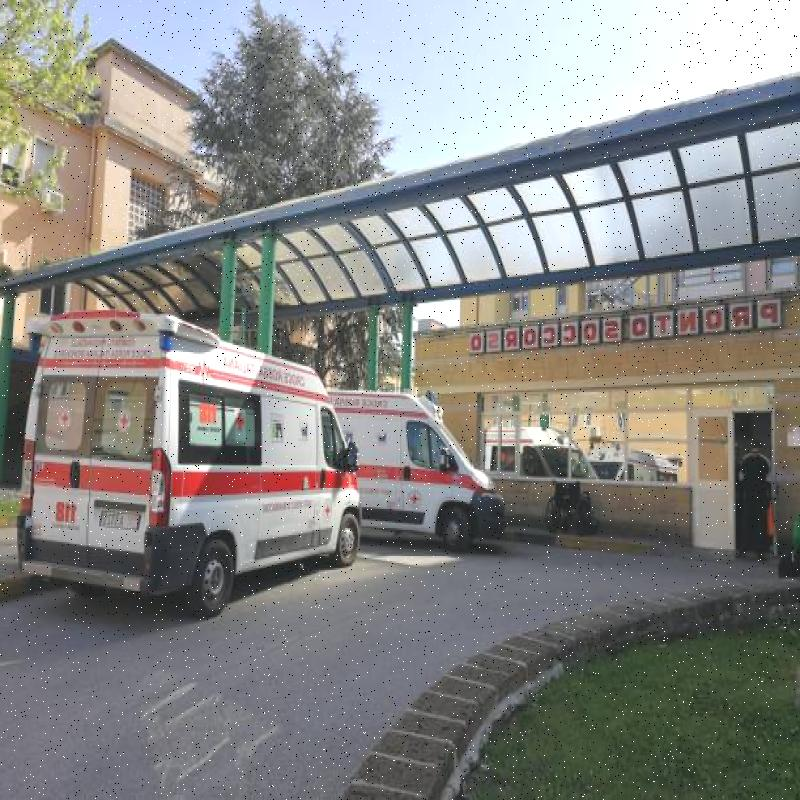ambulance: (16, 308, 373, 629)
